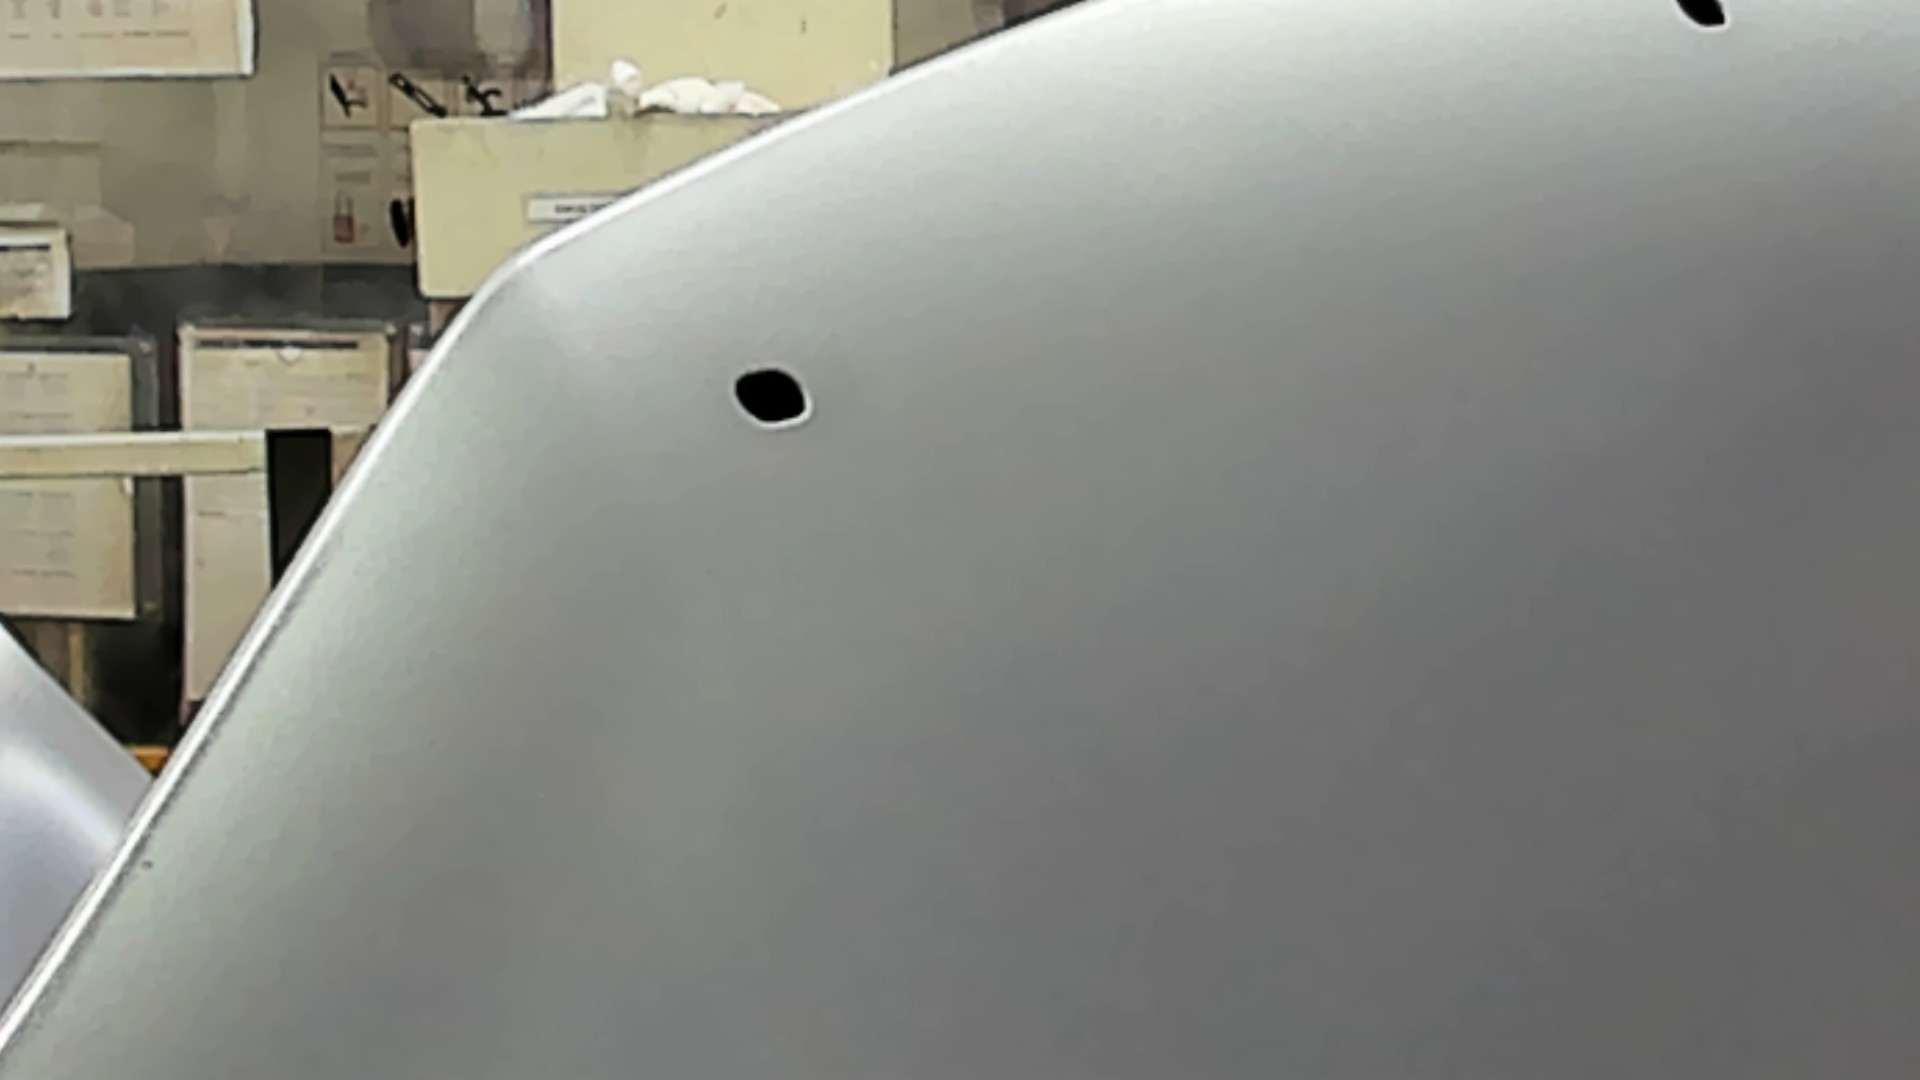amorfo: (727, 363, 815, 435), (1673, 1, 1731, 37)
